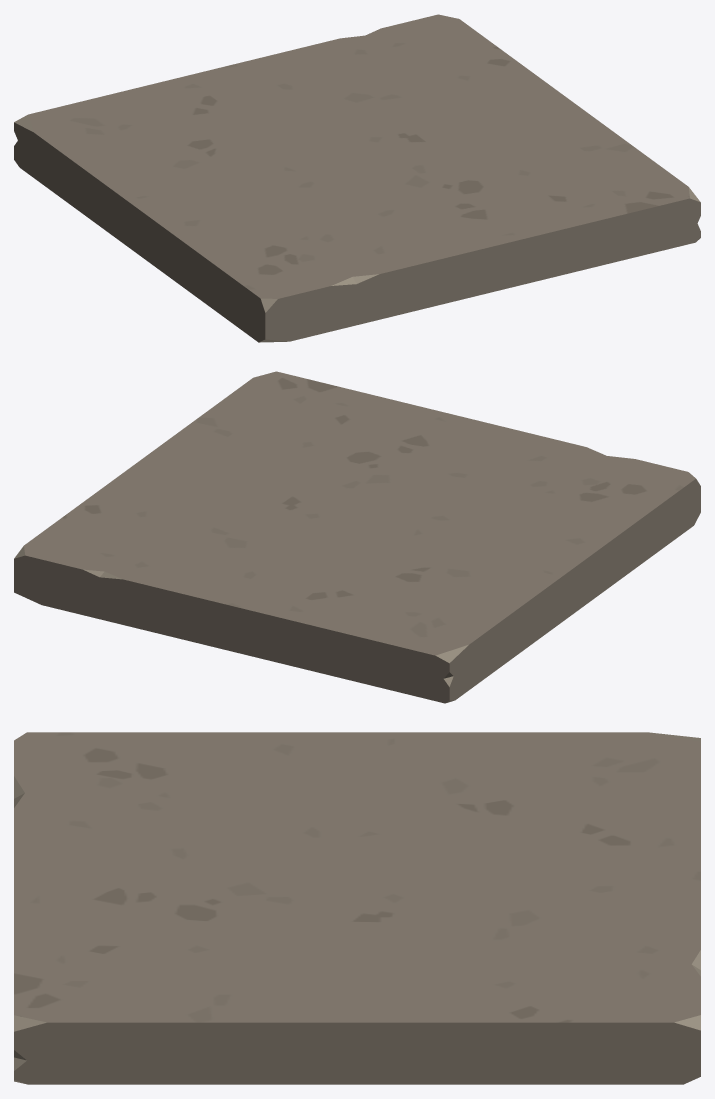
Rendered from SM_Bld_Concrete_Floor_01.fbx.
3 views of the same model, one above another, from view 1: azimuth 30°, elevation 25°; view 2: azimuth 150°, elevation 25°; view 3: azimuth 270°, elevation 25° (orthographic). The views are drawn at different scales.
Visible parts, largest first — view 1: SM_Bld_Concrete_Floor_01; view 2: SM_Bld_Concrete_Floor_01; view 3: SM_Bld_Concrete_Floor_01.
Boxes of the visible parts, x1,y1,x2,y2 form: SM_Bld_Concrete_Floor_01: (14, 14, 700, 342); SM_Bld_Concrete_Floor_01: (14, 371, 700, 703); SM_Bld_Concrete_Floor_01: (14, 732, 700, 1084).
Bounding box in the file's own units: 500 × 50 × 500.
